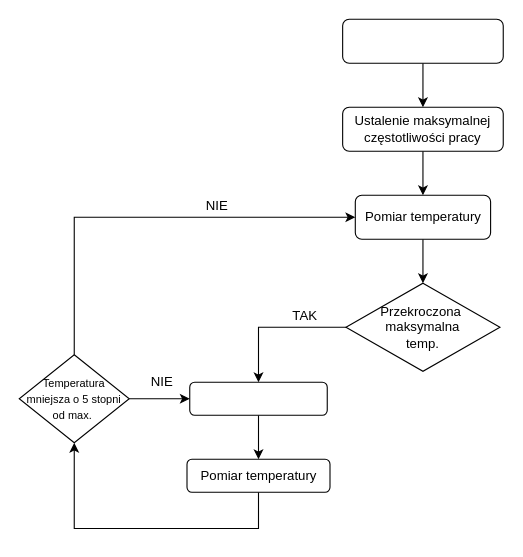
Image size: 523x557. Some labels were removed from this diagram. Each missing label, with the centre of its shape:
"Wyłącz wyjście na 5s" goes at point (258, 398).
"Włączenie zasilania" goes at point (422, 40).
